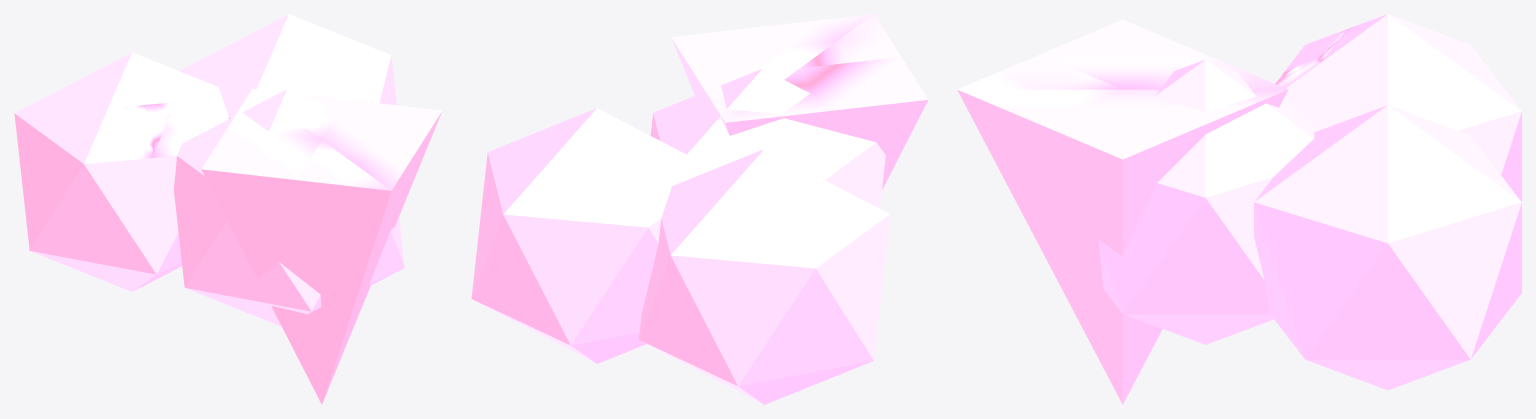
File: heart.glb
3 views of the same model, side by side, from view 1: azimuth 30°, elevation 25°; view 2: azimuth 150°, elevation 25°; view 3: azimuth 270°, elevation 25° (orthographic). The views are drawn at different scales.
Visible parts, largest first — view 1: PangHeartLobe0; view 2: PangHeartLobe0; view 3: PangHeartLobe0.
Part boxes in pixels (x1,y1,x2,y2): PangHeartLobe0: [14, 14, 442, 404]; PangHeartLobe0: [471, 14, 928, 404]; PangHeartLobe0: [957, 14, 1521, 404].
Size of the model in its own units: 0.5999 by 0.46 by 0.6816.
